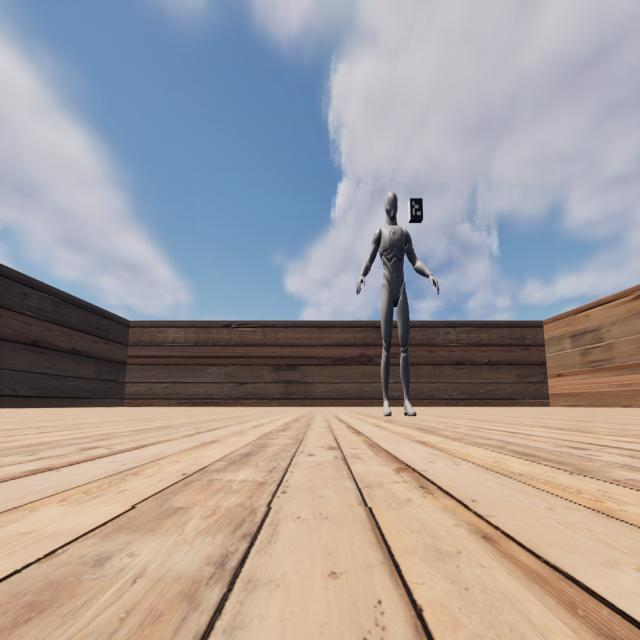aruco: (410, 198, 423, 219)
hip: (381, 281, 406, 290)
